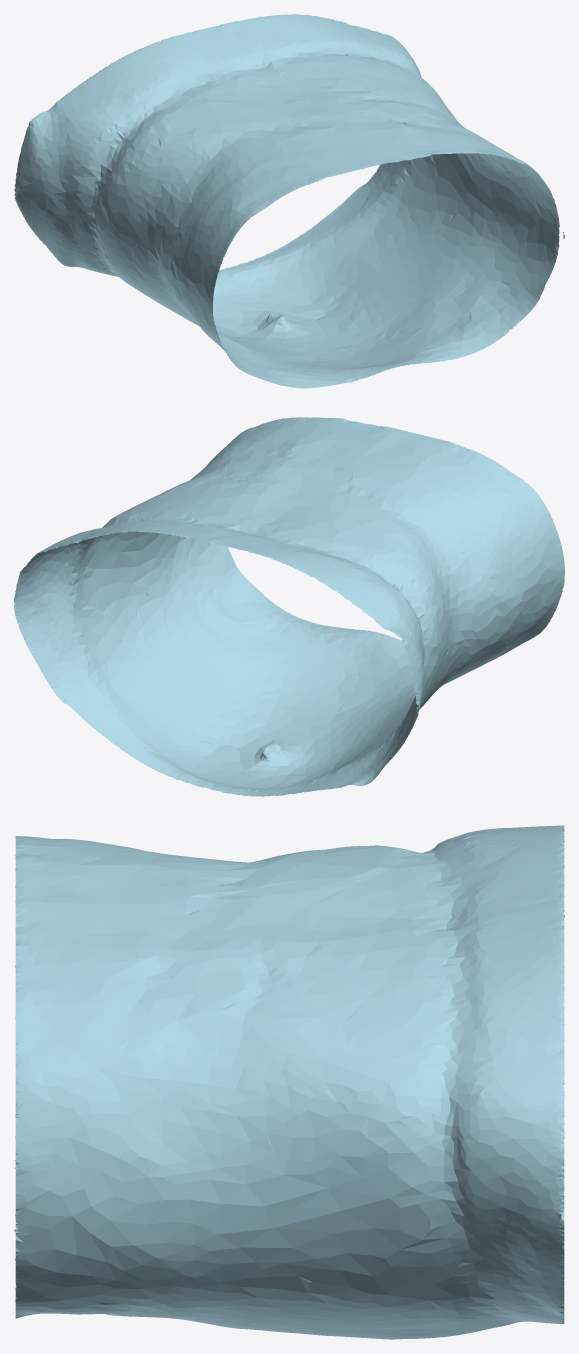
Rendered from skin.obj.
3 renders of one model, top to bottom at view 1: azimuth 30°, elevation 25°; view 2: azimuth 150°, elevation 25°; view 3: azimuth 270°, elevation 25°, orthographic. The views are drawn at different scales.
Visible parts, largest first — view 1: grp1; view 2: grp1; view 3: grp1.
Boxes of the visible parts, box(x1,y1,x2,y2) form: grp1: box(14, 14, 564, 388); grp1: box(14, 417, 564, 796); grp1: box(14, 825, 564, 1339).
Size of the model in its own units: 347 by 214 by 259.
